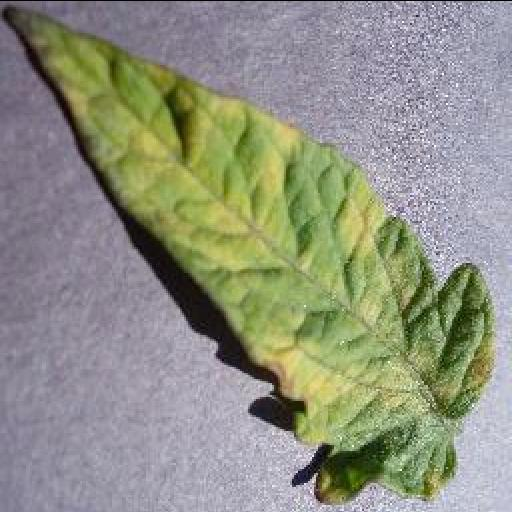disease_tomato: (2, 0, 494, 504)
